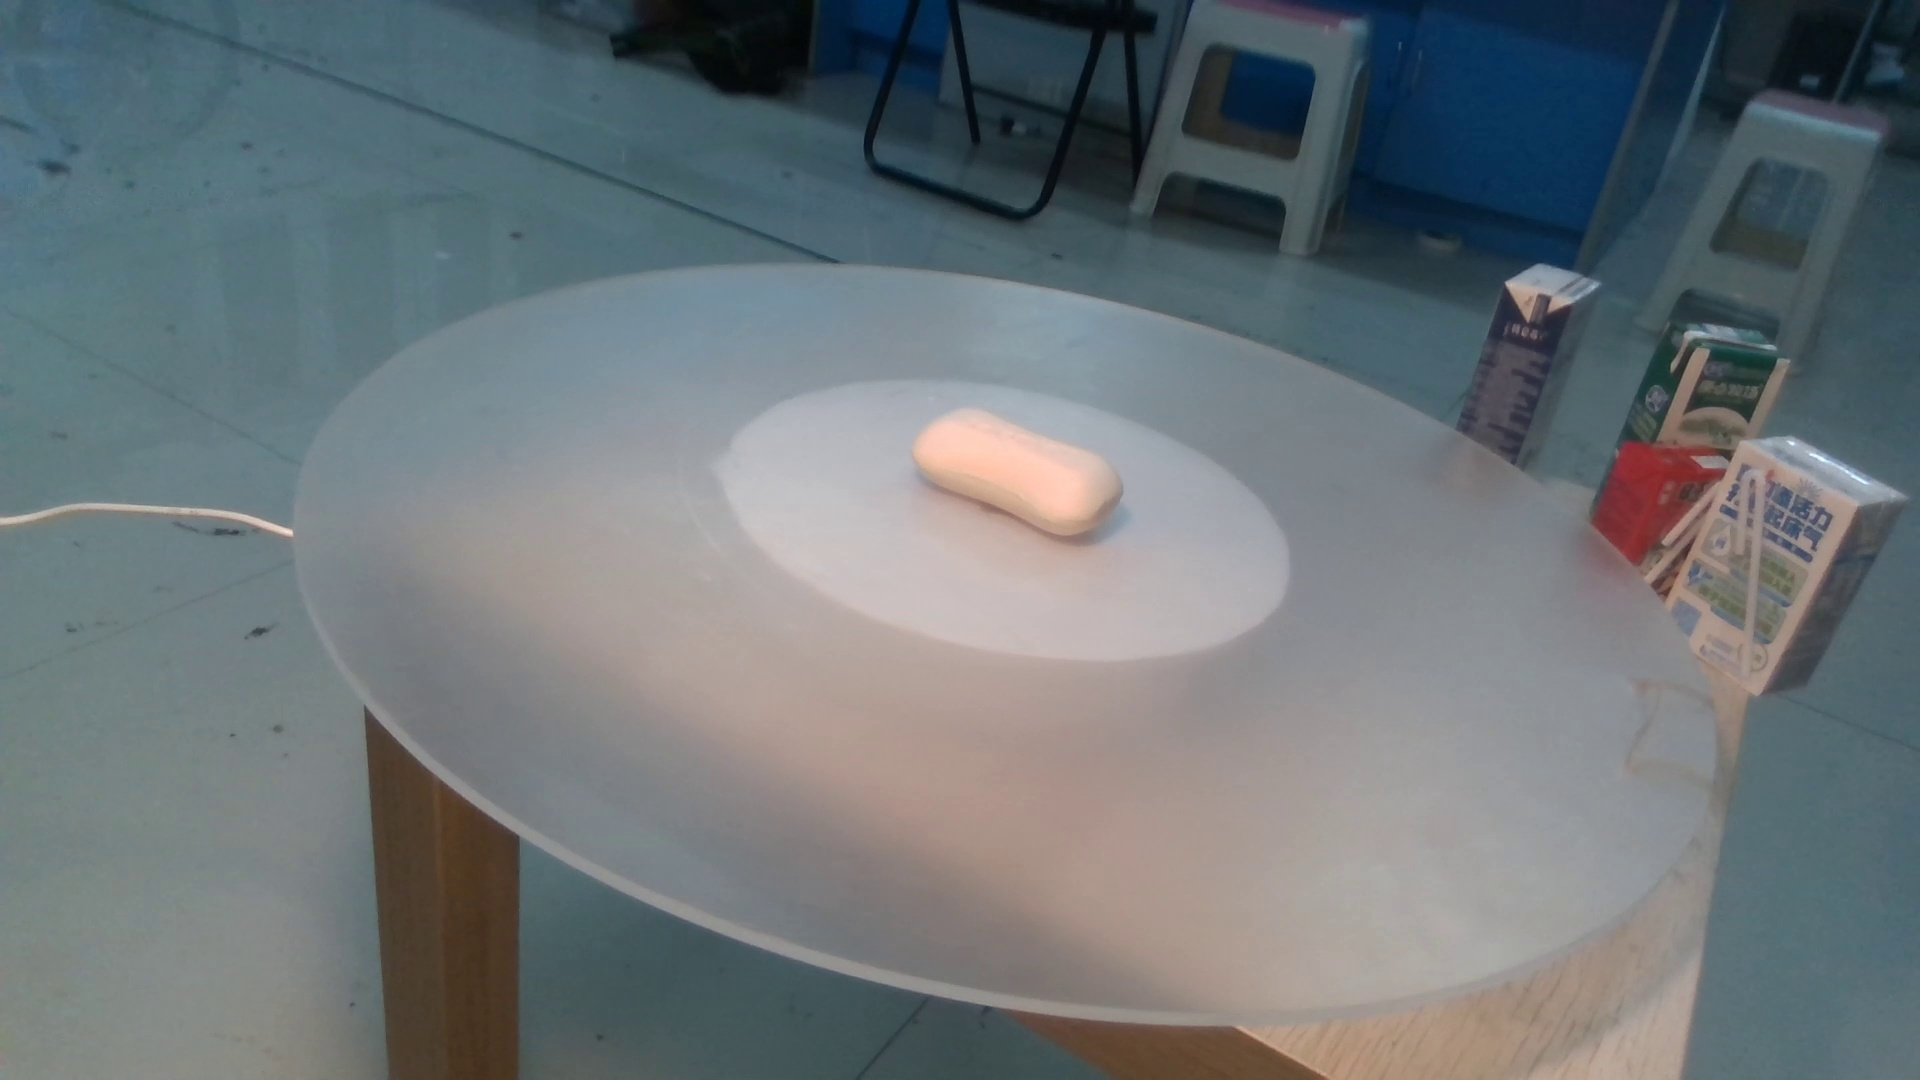CA003_1: (898, 390, 1153, 553)
